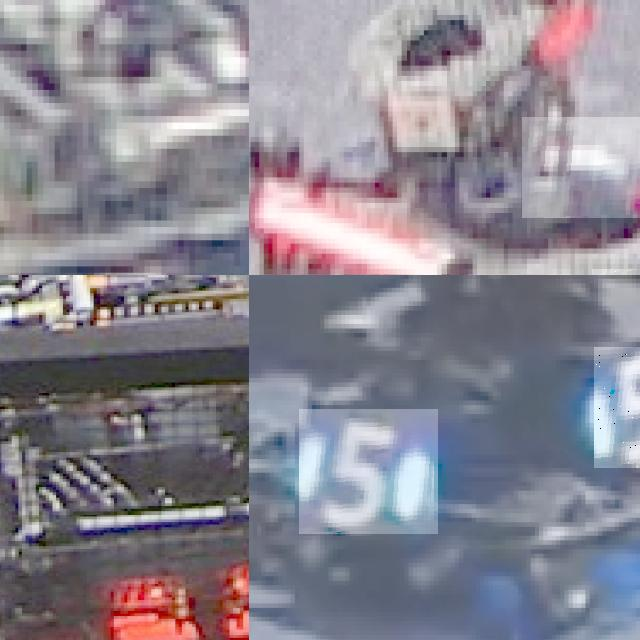B5: (299, 410, 438, 536), (593, 346, 640, 468)
R4: (521, 116, 640, 218)
